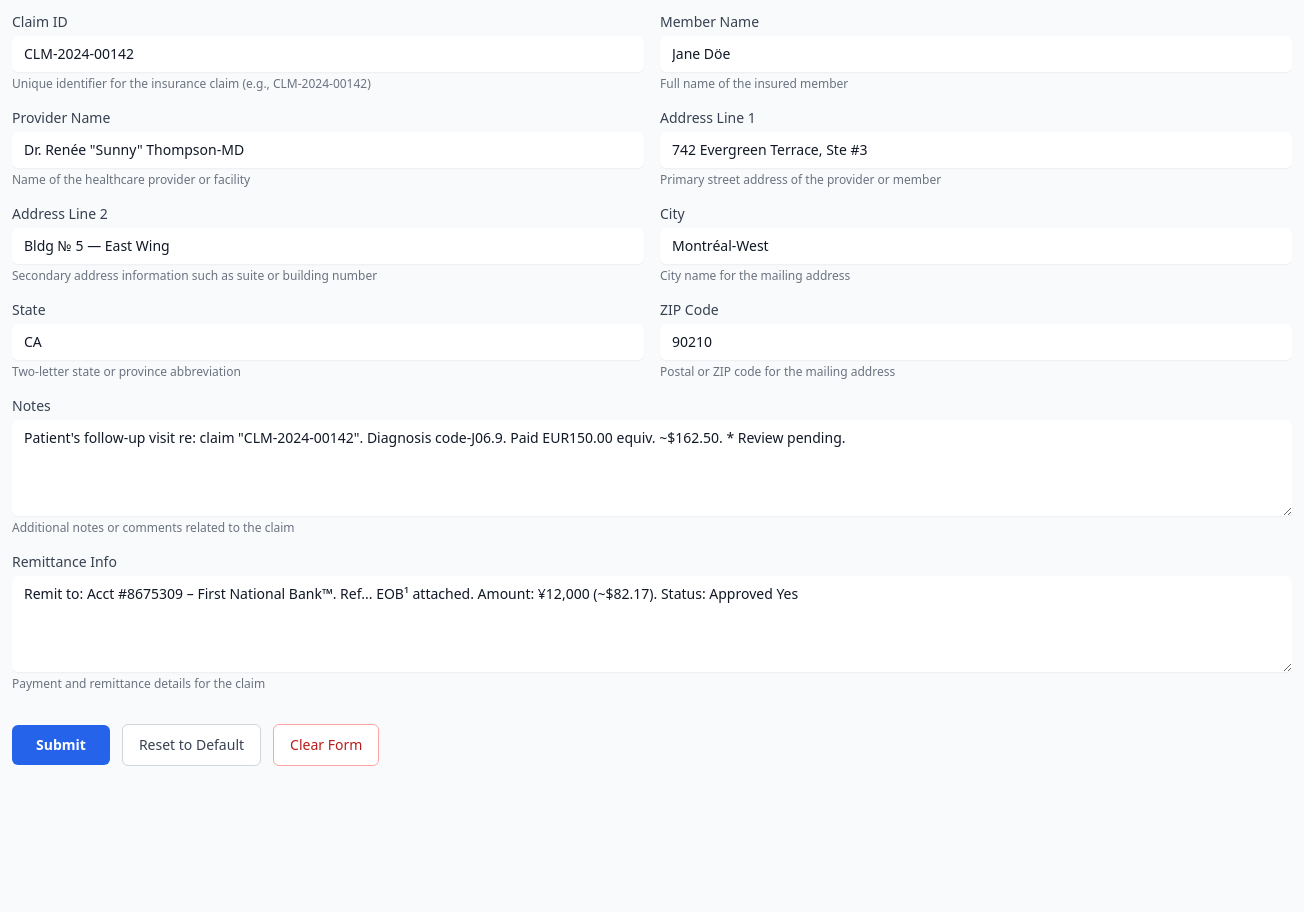
Test case: DemoForm › submission without validation (Screen A) › succeeds and shows Submission Accepted status
Click the button "Submit" at [61, 745], box x1=12 y1=725 x2=110 y2=765
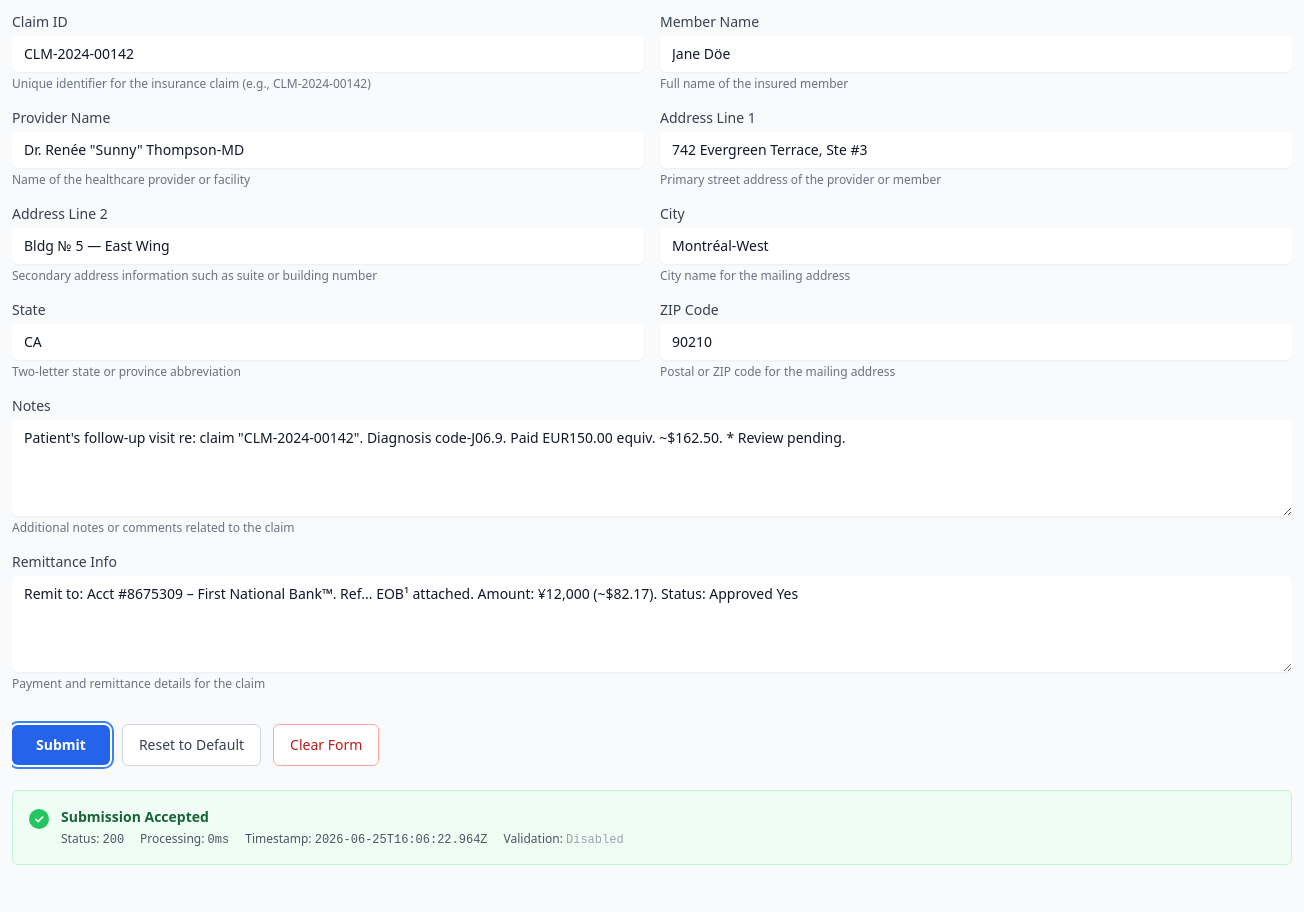
Now the message is shown, box x1=12 y1=790 x2=1292 y2=865
Now the message shows "Submission Accepted", box x1=61 y1=807 x2=209 y2=826
